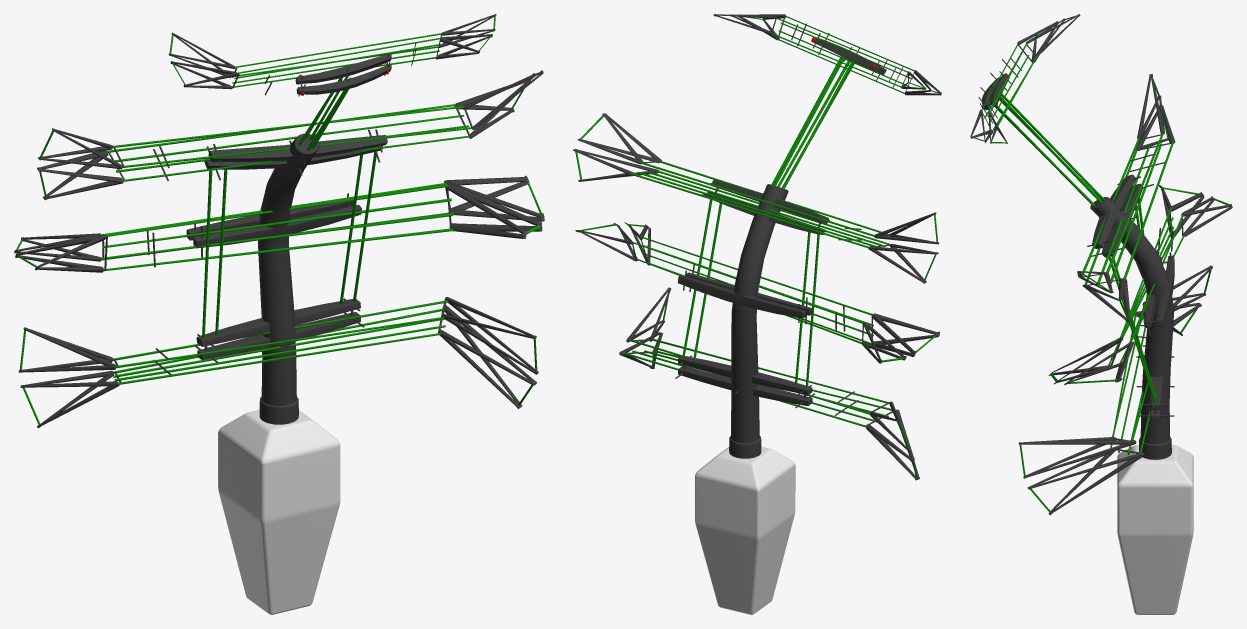
Rendered from SM_DestroyedRadioLine.fbx.
3 views of the same model, side by side, from view 1: azimuth 30°, elevation 25°; view 2: azimuth 150°, elevation 25°; view 3: azimuth 270°, elevation 25° (orthographic). The views are drawn at different scales.
Parts seen in each view (by area): view 1: SM_RadioLine; view 2: SM_RadioLine; view 3: SM_RadioLine.
Part boxes in pixels (left/top/right/bottom): SM_RadioLine: left=14, top=14, right=544, bottom=614; SM_RadioLine: left=573, top=14, right=941, bottom=614; SM_RadioLine: left=970, top=14, right=1232, bottom=614.
Bounding box in the file's own units: 1768 × 2307 × 1032.
